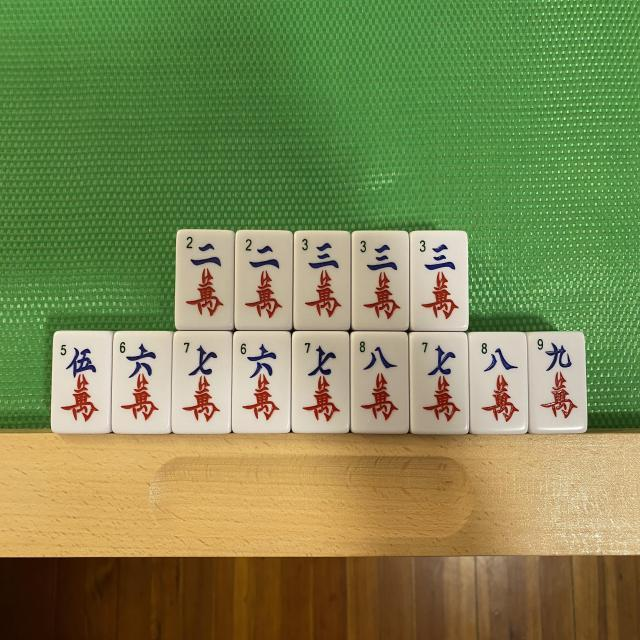sc2: (235, 230, 292, 330), (176, 230, 233, 330)
sc3: (410, 232, 468, 330), (294, 232, 350, 331), (352, 232, 408, 330)
sc5: (52, 332, 112, 432)
sc6: (112, 331, 172, 434), (233, 332, 290, 432)
sc7: (410, 331, 469, 434), (291, 332, 350, 432), (173, 332, 230, 432)
sc8: (469, 333, 526, 434), (351, 331, 408, 432)
sc9: (529, 332, 583, 432)
